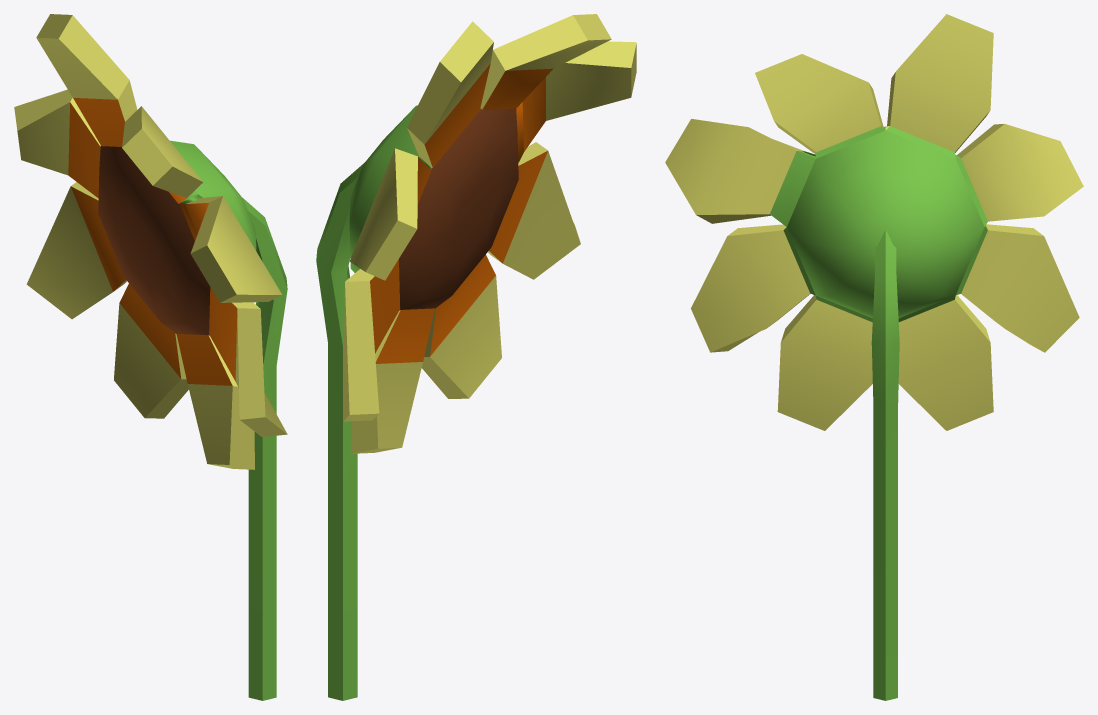
File: sunflower2.fbx
3 renders of one model, left to right at view 1: azimuth 30°, elevation 25°; view 2: azimuth 150°, elevation 25°; view 3: azimuth 270°, elevation 25°, orthographic. The views are drawn at different scales.
Visible parts, largest first — view 1: pCylinder8; view 2: pCylinder8; view 3: pCylinder8.
Part boxes in pixels (x1,y1,x2,y2): pCylinder8: (14,14,287,700); pCylinder8: (316,14,636,700); pCylinder8: (665,14,1083,700).
Size of the model in its own units: 1.3 by 4.12 by 2.55.
